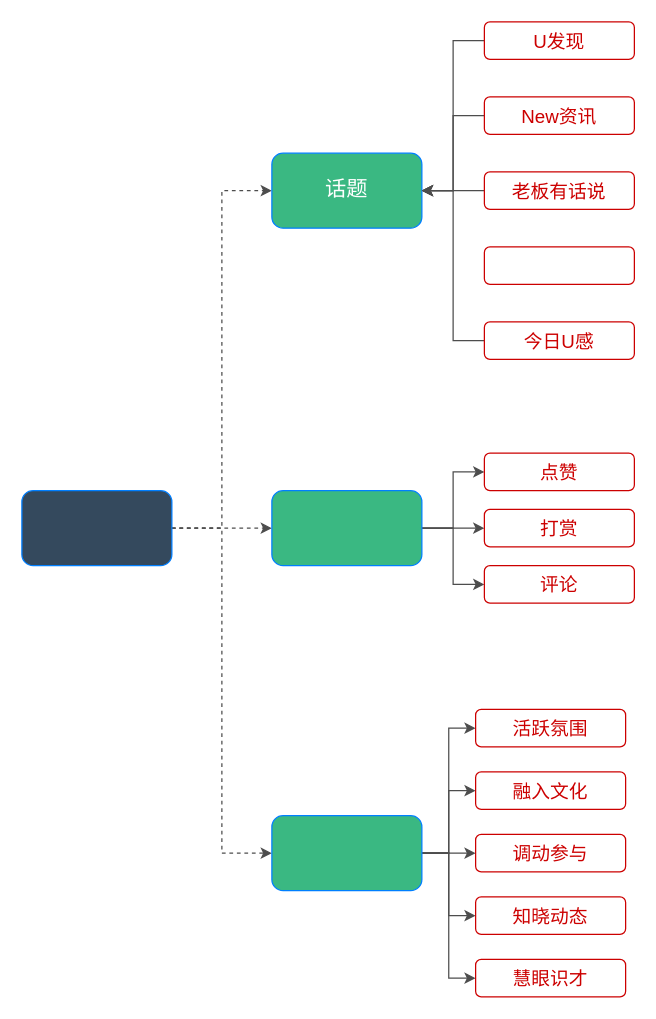
The diagram is 656 pixels wide and 1019 high, and some of its shapes have lost their labels. Here are the shapes that lost their labels. From the top down, the centre of each, then its label:
At point 558,265: "趣闻趣事".
At point 96,527: "优聊".
At point 346,527: "参与".
At point 346,852: "运营".
